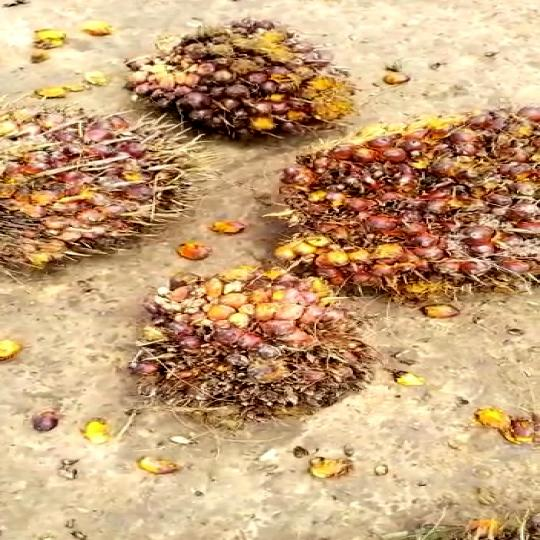masak: (259, 98, 540, 294), (104, 265, 369, 431), (0, 103, 208, 282), (108, 10, 370, 140)
